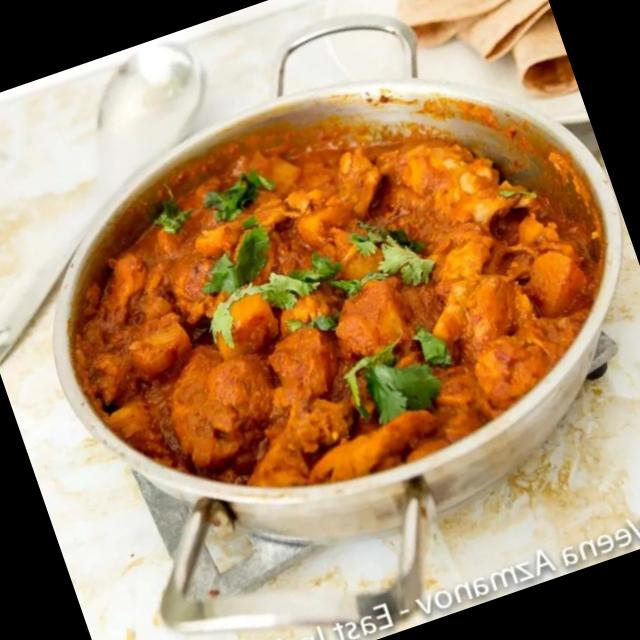chicken: (55, 69, 614, 538)
